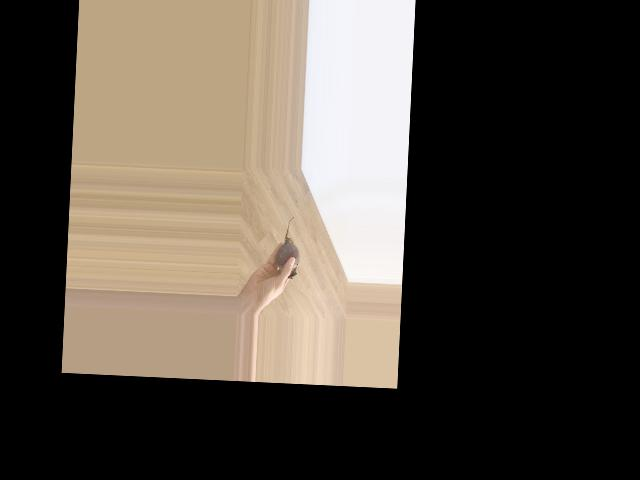beet: (275, 215, 301, 279)
